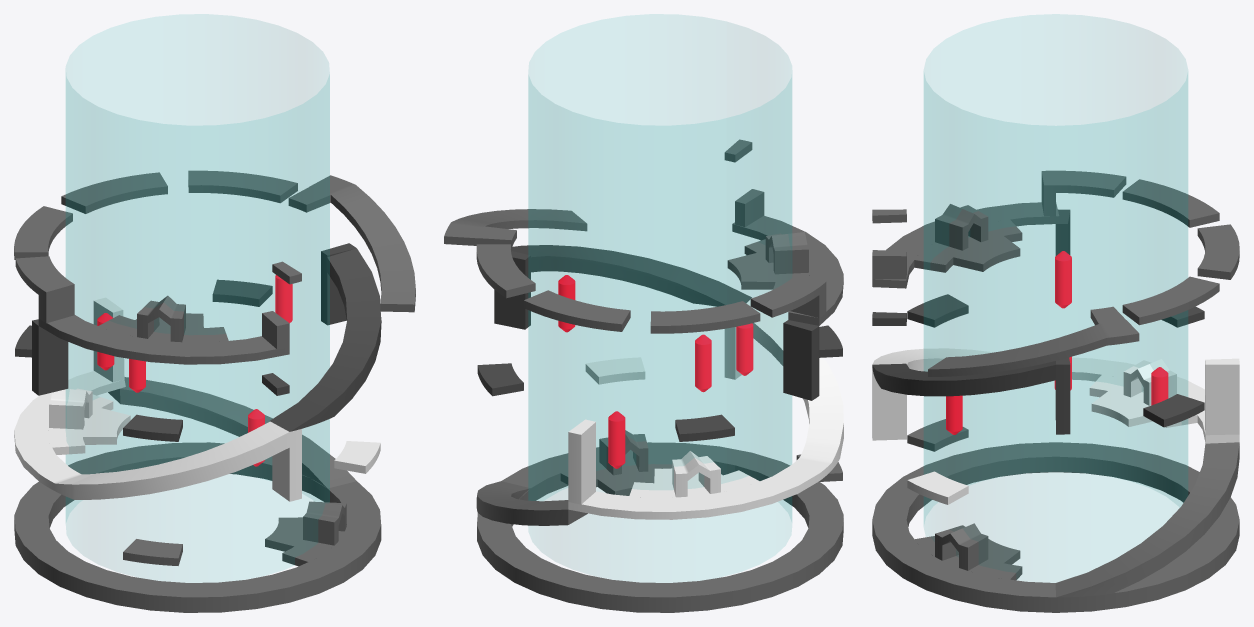
File: prison_2.fbx
3 views of the same model, side by side, from view 1: azimuth 30°, elevation 25°; view 2: azimuth 150°, elevation 25°; view 3: azimuth 270°, elevation 25° (orthographic).
Visible parts, largest first — view 1: Force_Field, Floor_1, Floor_4, Floor_2, Floor_3, Cylinder; view 2: Force_Field, Floor_1, Floor_4, Floor_2, Floor_3, Cylinder.003, Cylinder.002, Cylinder.001; view 3: Force_Field, Floor_1, Floor_4, Floor_2, Floor_3, Cylinder.001, Cylinder.002, Cylinder.003.
Part boxes in pixels (x1,y1,x2,y2): Force_Field: (66,72,329,522); Floor_1: (14,377,381,612); Floor_4: (14,170,415,364); Floor_2: (14,297,380,501); Floor_3: (15,243,381,441); Cylinder: (275,275,292,323); Force_Field: (528,74,791,522); Floor_1: (476,430,843,612); Floor_4: (444,139,843,333); Floor_2: (568,297,843,519); Floor_3: (477,245,842,441); Cylinder.003: (608,411,625,468); Cylinder.002: (695,334,711,392); Cylinder.001: (736,323,753,375); Force_Field: (924,72,1187,525); Floor_1: (872,419,1239,612); Floor_4: (872,170,1239,376); Floor_2: (872,348,1239,504); Floor_3: (872,209,1204,434); Cylinder.001: (1055,251,1071,308); Cylinder.002: (946,395,962,434); Cylinder.003: (1151,367,1168,405).
Bounding box in the file's own units: 2.35 × 3 × 2.15.
